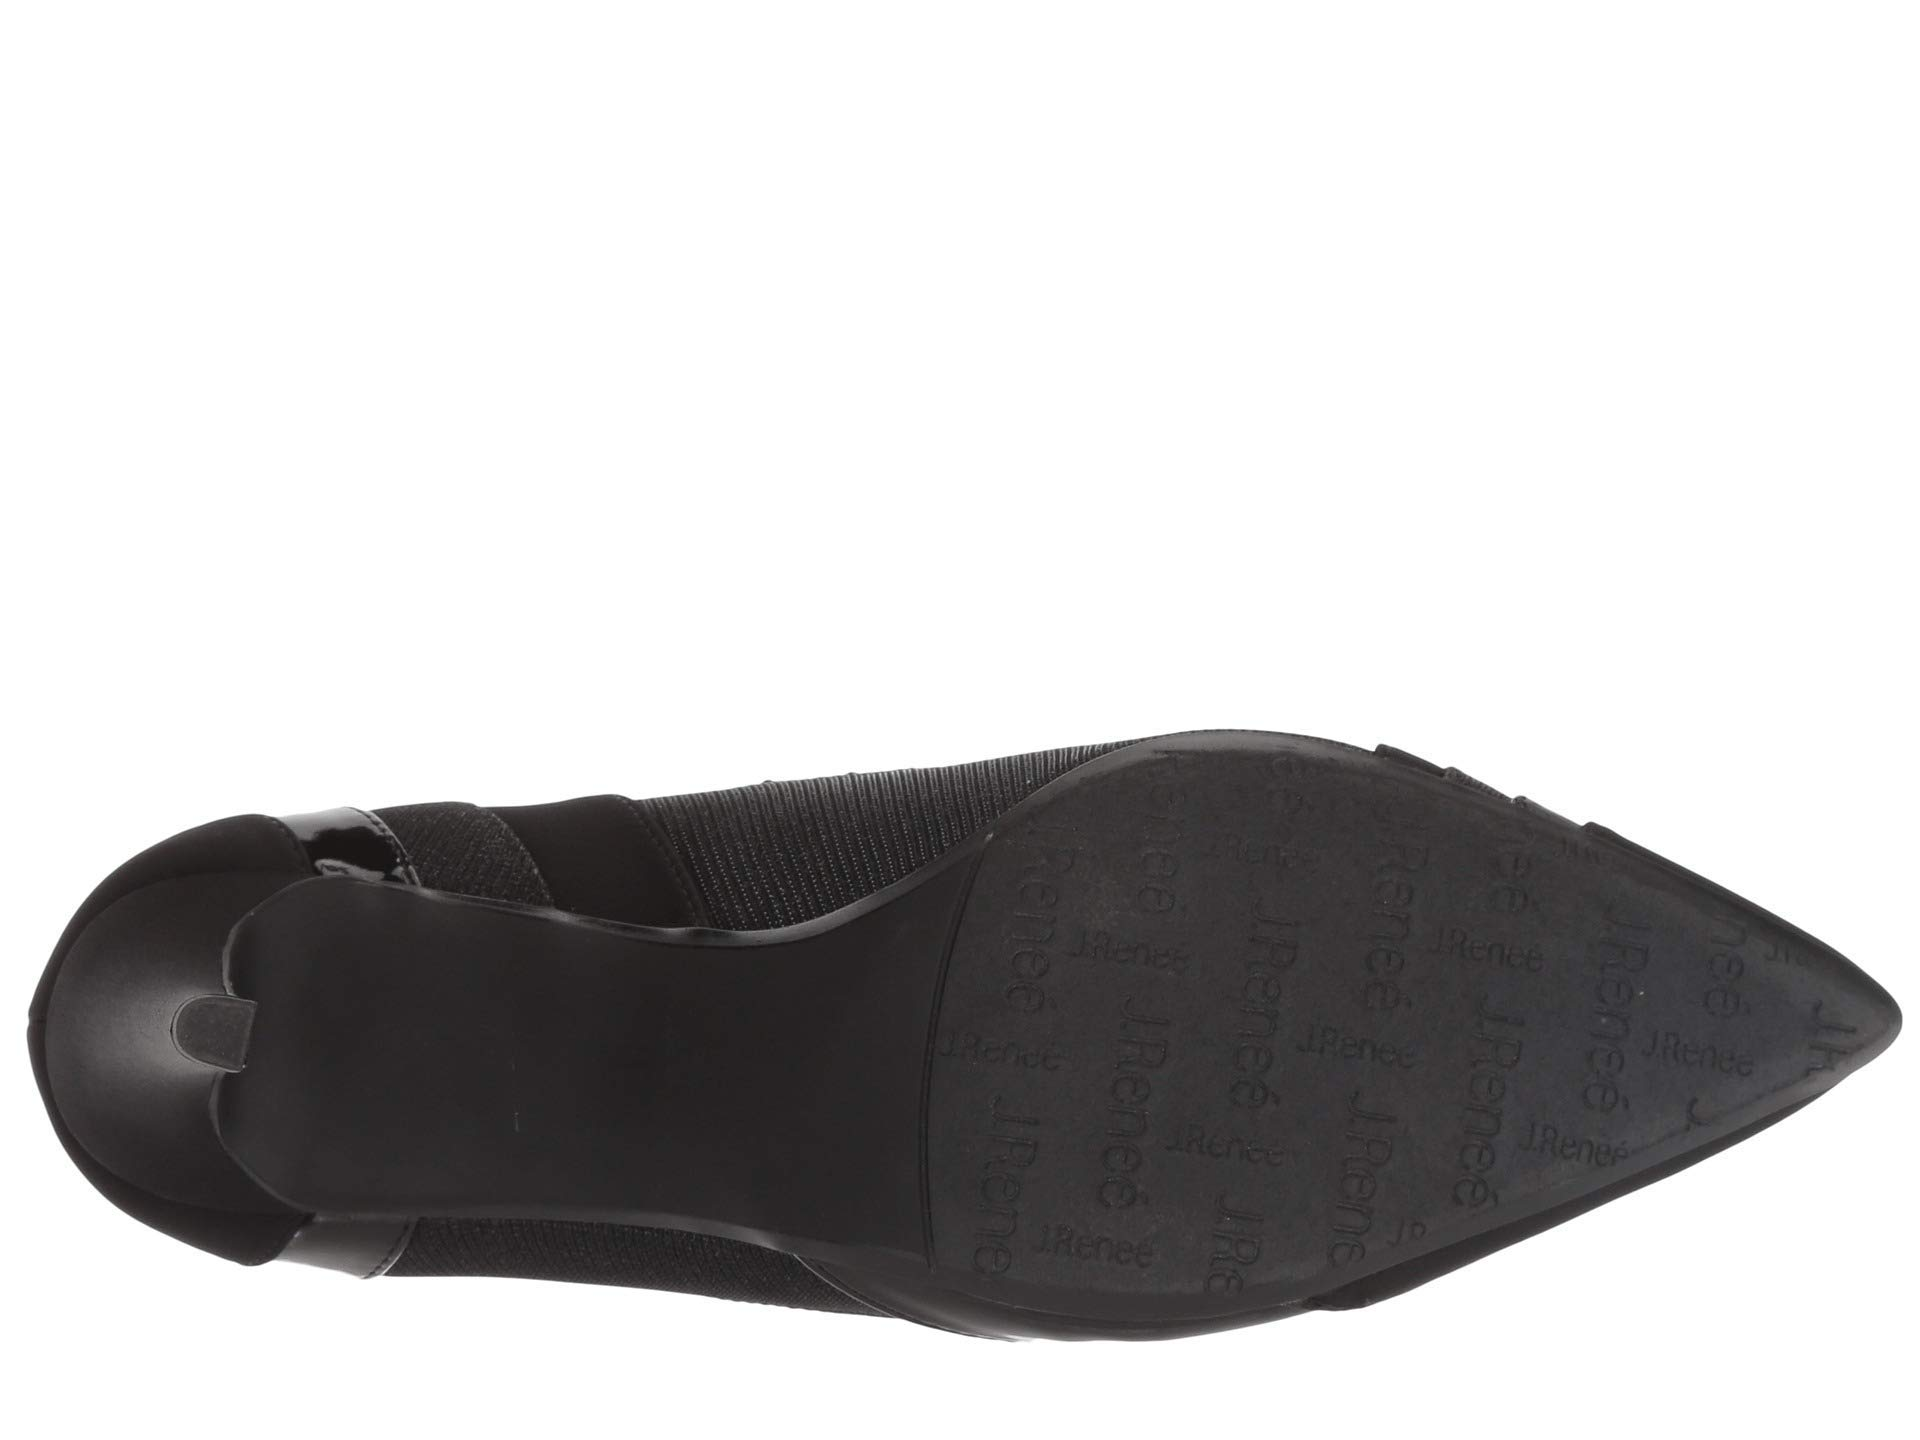text: (1046, 839, 1473, 1230)
